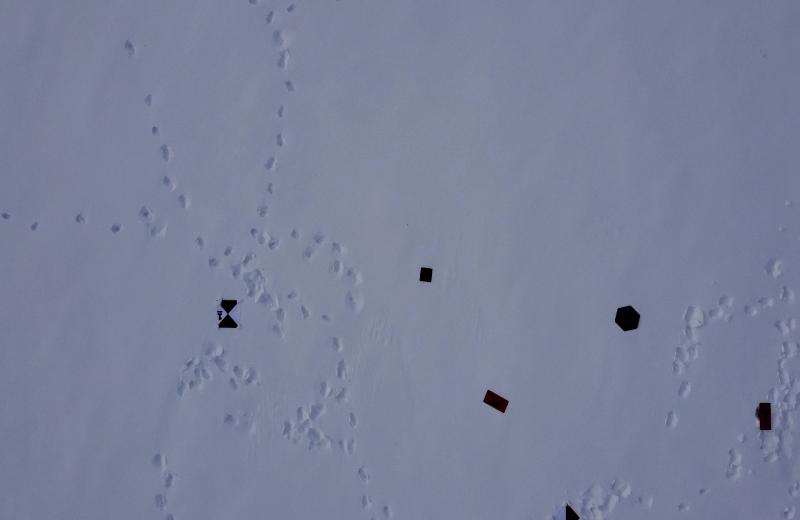Hexagon: (613, 302, 644, 336)
Rectangle: (484, 384, 512, 418), (750, 402, 778, 434)
Square: (414, 262, 436, 286)
